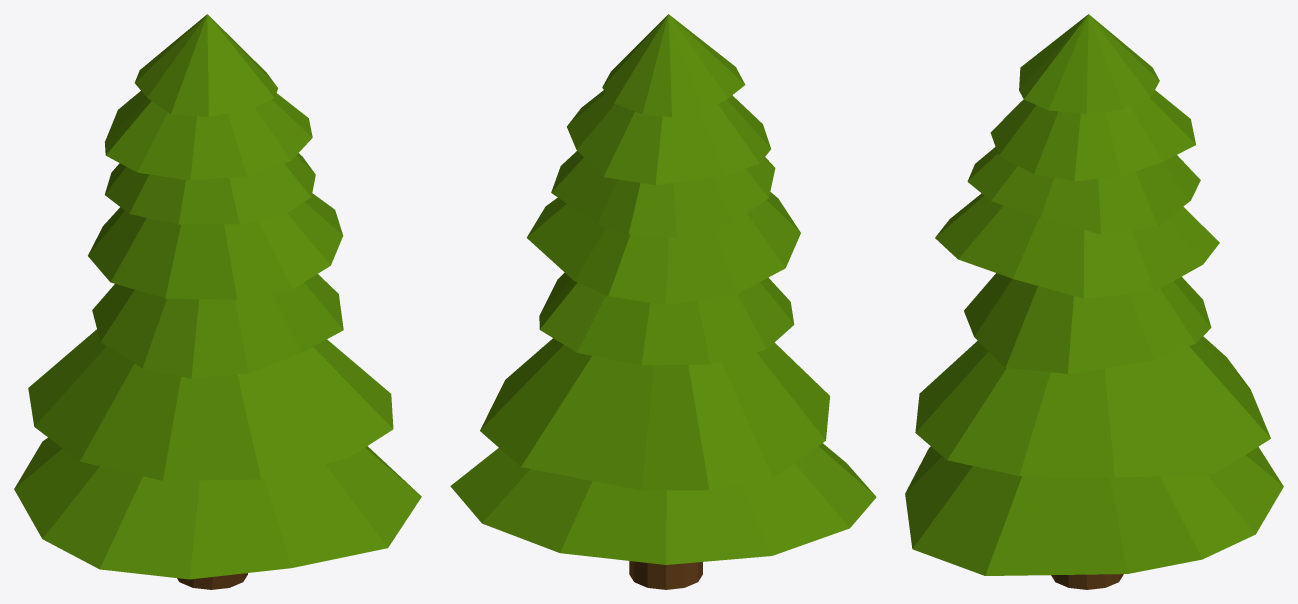
File: Spruce_1.fbx
3 renders of one model, left to right at view 1: azimuth 30°, elevation 25°; view 2: azimuth 150°, elevation 25°; view 3: azimuth 270°, elevation 25°, orthographic.
Visible parts, largest first — view 1: Leafs, Trunk; view 2: Leafs, Trunk; view 3: Leafs, Trunk.
Part boxes in pixels (<box>): Leafs: <box>14,14,421,579</box>; Trunk: <box>177,573,247,589</box>; Leafs: <box>450,14,876,564</box>; Trunk: <box>629,561,702,589</box>; Leafs: <box>905,14,1283,575</box>; Trunk: <box>1051,574,1123,589</box>.
Bounding box in the file's own units: 13.74 × 21.46 × 13.18.
